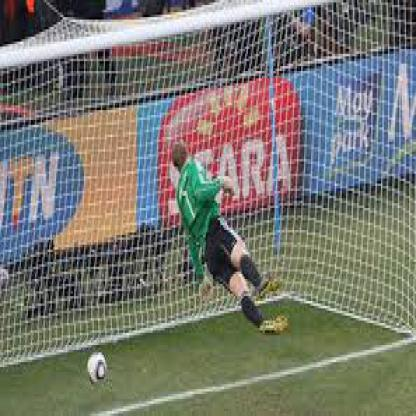goal: (54, 132, 382, 404)
